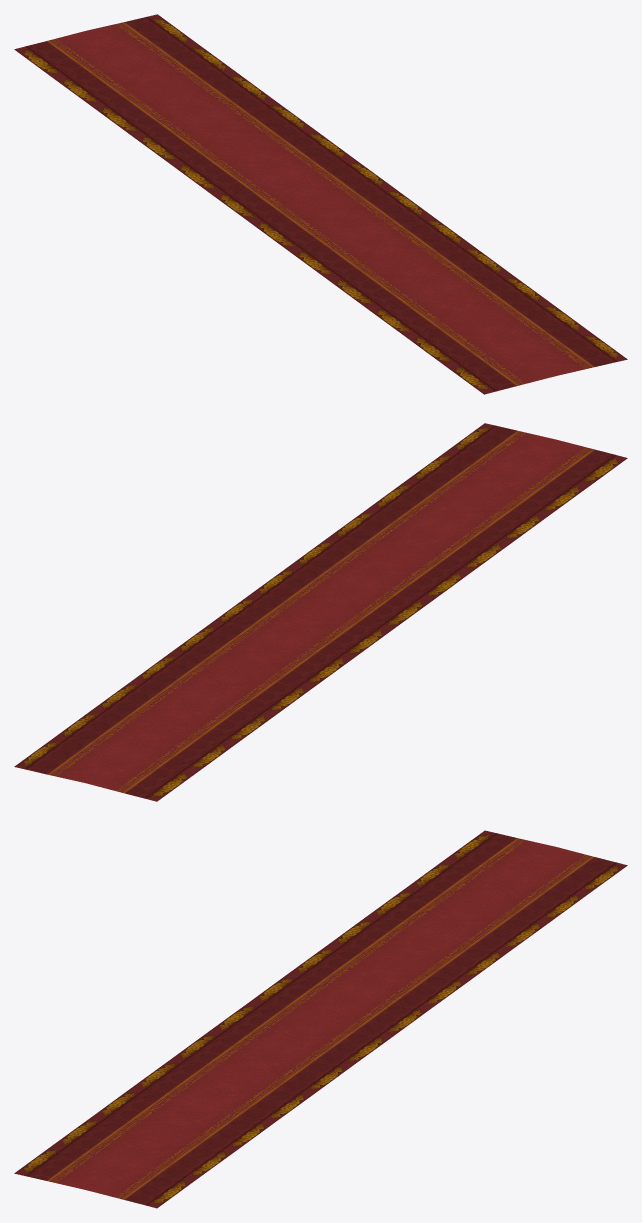
File: fb_baitang_ditan01.FBX
3 views of the same model, one above another, from view 1: azimuth 30°, elevation 25°; view 2: azimuth 150°, elevation 25°; view 3: azimuth 330°, elevation 25° (orthographic).
Visible parts, largest first — view 1: fb_baitang_ditan01; view 2: fb_baitang_ditan01; view 3: fb_baitang_ditan01.
Part boxes in pixels (box(x1,y1,x2,y2)): fb_baitang_ditan01: box(14, 14, 627, 394); fb_baitang_ditan01: box(14, 423, 627, 801); fb_baitang_ditan01: box(14, 830, 627, 1208).
Bounding box in the file's own units: 552 × 4.92 × 3110.
